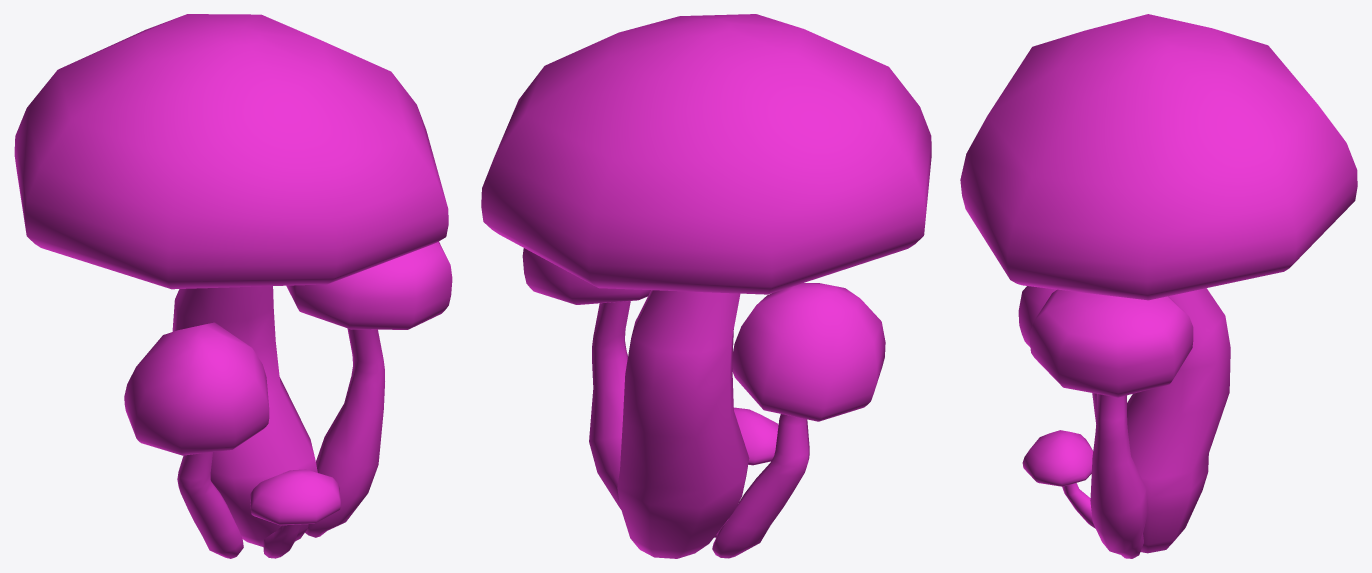
Rendered from Fantasy_Mushrooms_Small.fbx.
The picture shows the model from 3 angles, left to right: view 1: azimuth 30°, elevation 25°; view 2: azimuth 150°, elevation 25°; view 3: azimuth 270°, elevation 25°; orthographic projection. The views are drawn at different scales.
Visible parts, largest first — view 1: Mushrooms001; view 2: Mushrooms001; view 3: Mushrooms001.
Part boxes in pixels (x1=…): Mushrooms001: x1=14, y1=14, x2=452, y2=558; Mushrooms001: x1=481, y1=14, x2=931, y2=558; Mushrooms001: x1=960, y1=14, x2=1357, y2=558.
Bounding box in the file's own units: 10.36 × 12.73 × 9.47.
